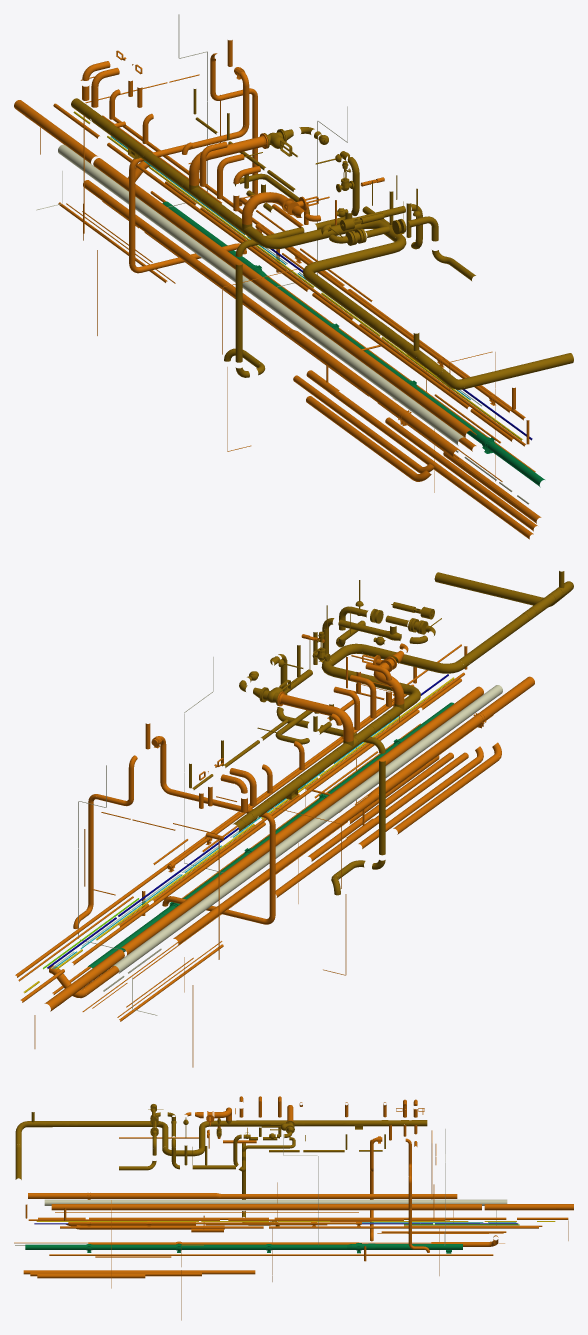
3 views of the same model, one above another, from view 1: azimuth 30°, elevation 25°; view 2: azimuth 150°, elevation 25°; view 3: azimuth 270°, elevation 25° (orthographic). The views are drawn at different scales.
Size of the model in its own units: 11.49 by 21.16 by 56.04.
